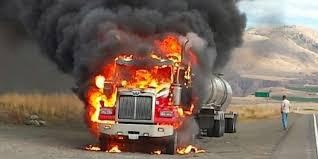fire: (85, 36, 195, 136), (174, 143, 204, 155)
